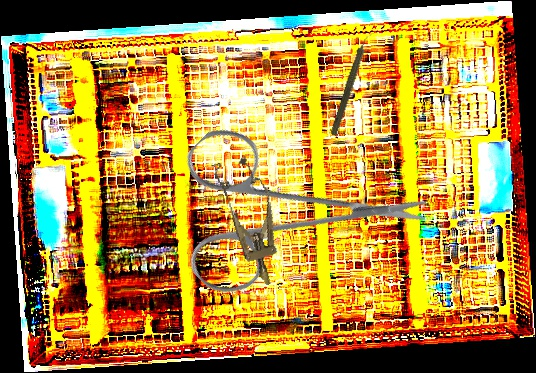Handpiece: (328, 29, 375, 138)
Iris Scissors: (130, 58, 434, 362)
Speculum: (210, 152, 292, 292)
